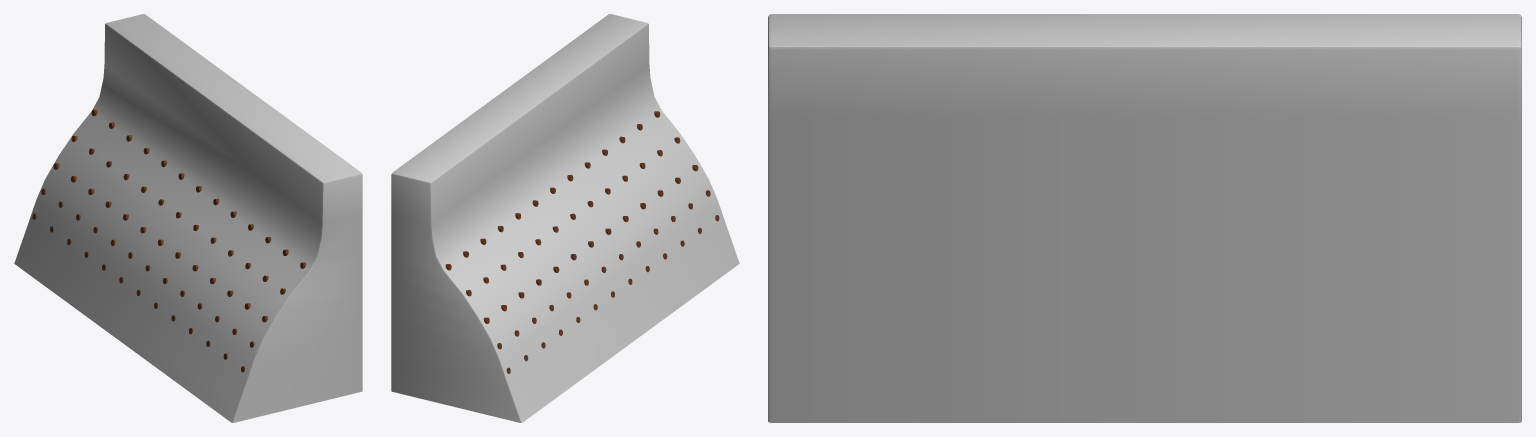
File: Devor.fbx
The picture shows the model from 3 angles, left to right: view 1: azimuth 30°, elevation 25°; view 2: azimuth 150°, elevation 25°; view 3: azimuth 270°, elevation 25°; orthographic projection. The views are drawn at different scales.
Parts seen in each view (by area): view 1: devor; view 2: devor; view 3: devor.
Part boxes in pixels (left/top/right/bottom): devor: left=14, top=14, right=362, bottom=422; devor: left=391, top=14, right=739, bottom=422; devor: left=768, top=14, right=1521, bottom=422.
Bounding box in the file's own units: 1525 × 2427 × 4406.
